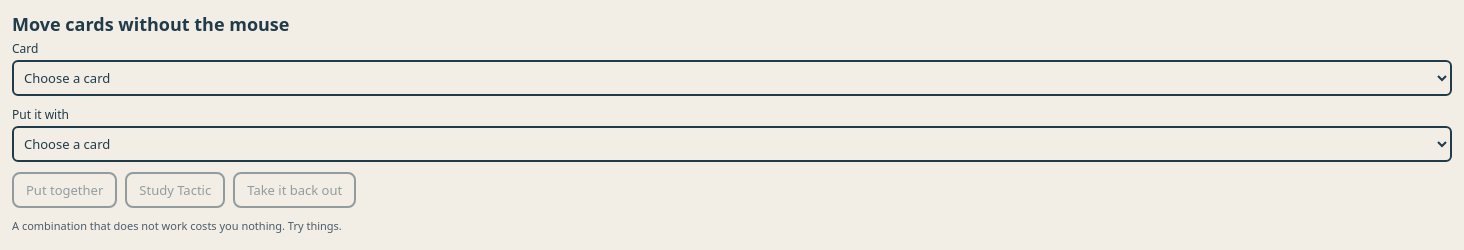
Test case: AccessibleCardControls › keeps Study Tactic disabled for a pair that is not a Tactic study
Select "Policy Aide" in the dropdown with test id "controls-source" at [732, 78], box [12, 60, 1452, 96]
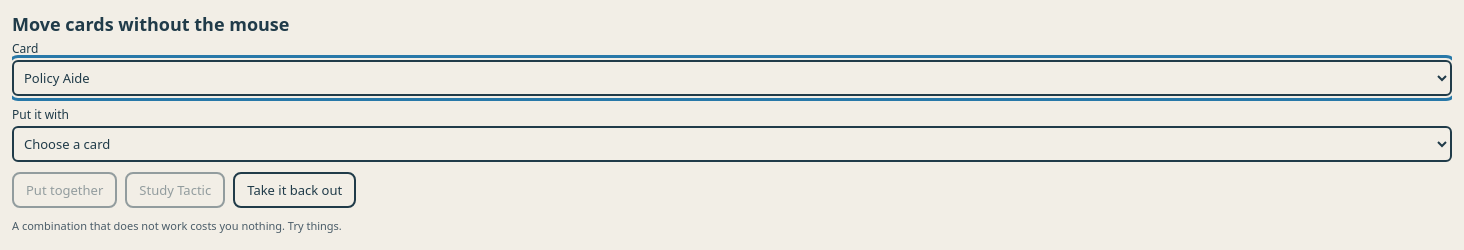
Select "Rent Burden Report" in the dropdown with test id "controls-target" at [732, 144], box [12, 126, 1452, 162]
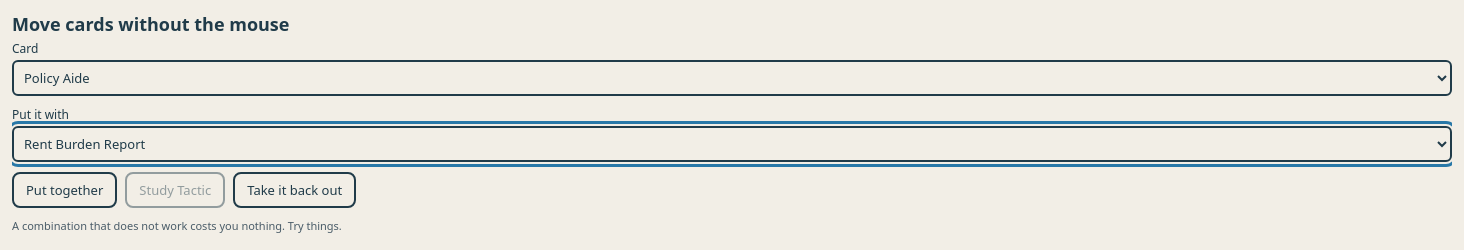
Expected: the button with test id "controls-study" is disabled, [125, 172, 225, 208]
Expected: the button with test id "controls-combine" is enabled, [12, 172, 117, 208]
